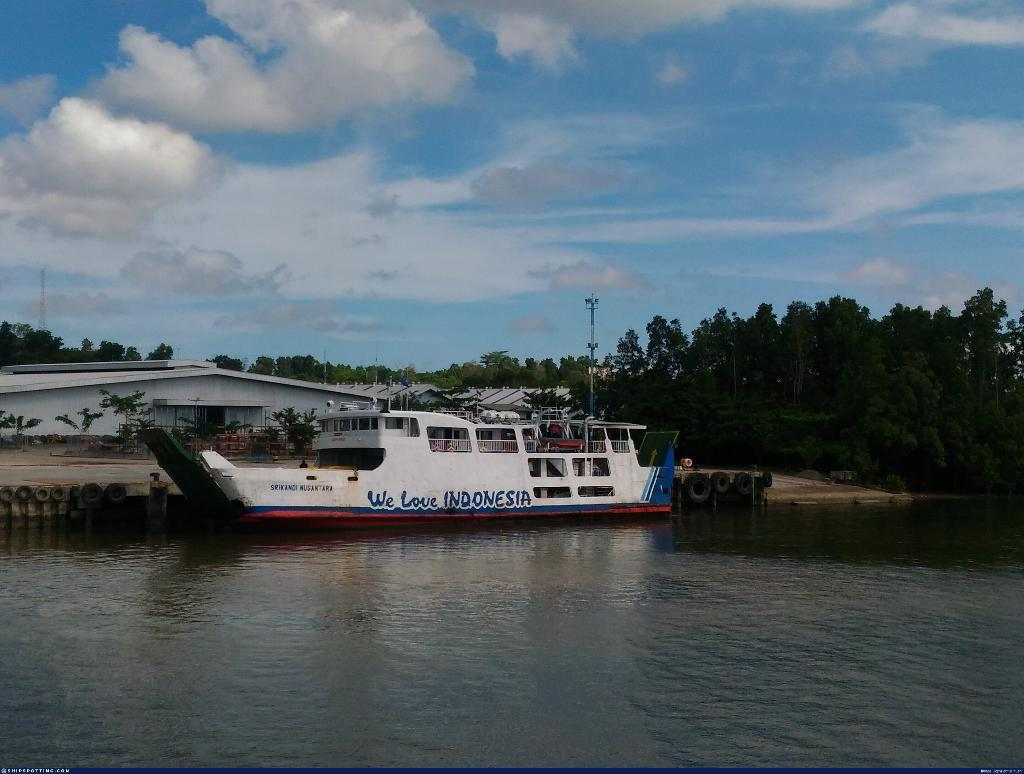PassengerShip: (114, 388, 694, 528)
